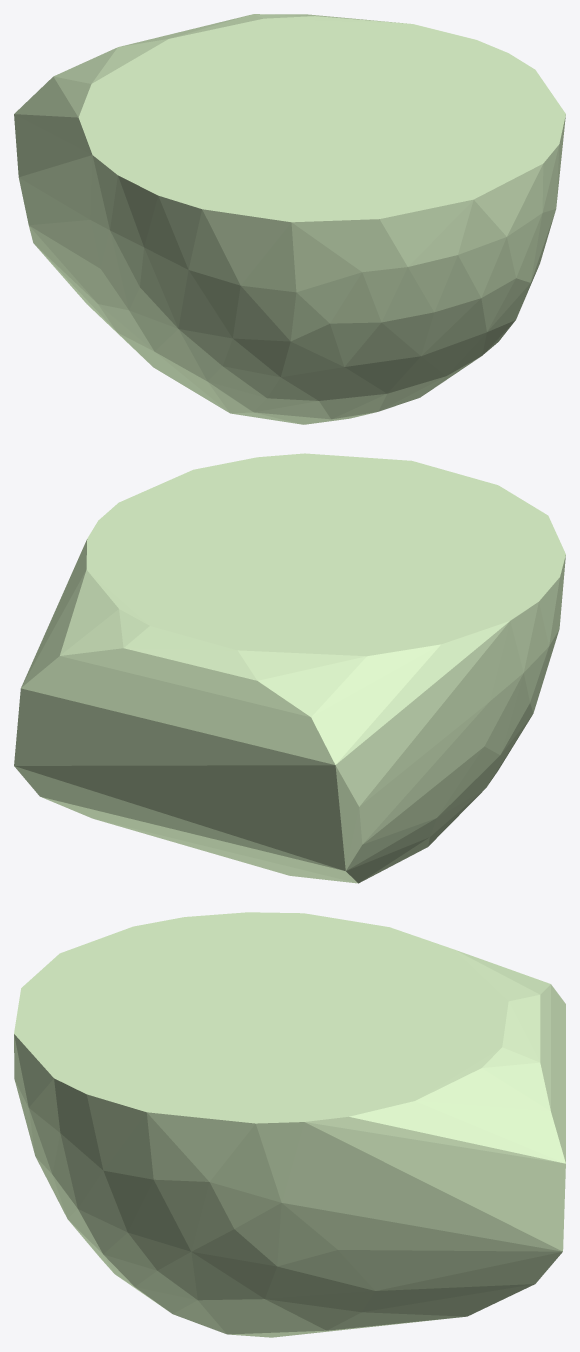
File: kuka_URDF_link2_resp_coll_2.dae
3 views of the same model, one above another, from view 1: azimuth 30°, elevation 25°; view 2: azimuth 150°, elevation 25°; view 3: azimuth 270°, elevation 25° (orthographic). The views are drawn at different scales.
Visible parts, largest first — view 1: Node_0000020FCC5901C0; view 2: Node_0000020FCC5901C0; view 3: Node_0000020FCC5901C0.
Boxes of the visible parts, <box> form: Node_0000020FCC5901C0: <box>14,14,565,424</box>; Node_0000020FCC5901C0: <box>14,453,565,883</box>; Node_0000020FCC5901C0: <box>14,912,565,1337</box>.
Size of the model in its own units: 0.1712 by 0.1158 by 0.189.
